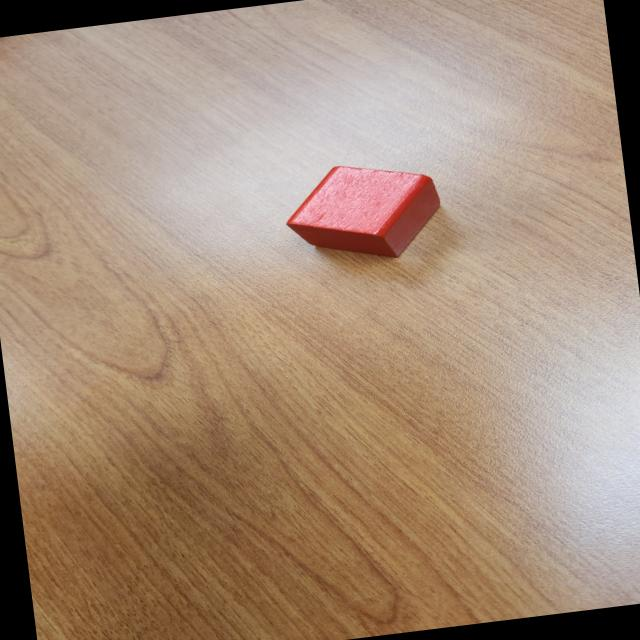red: (278, 154, 446, 271)
